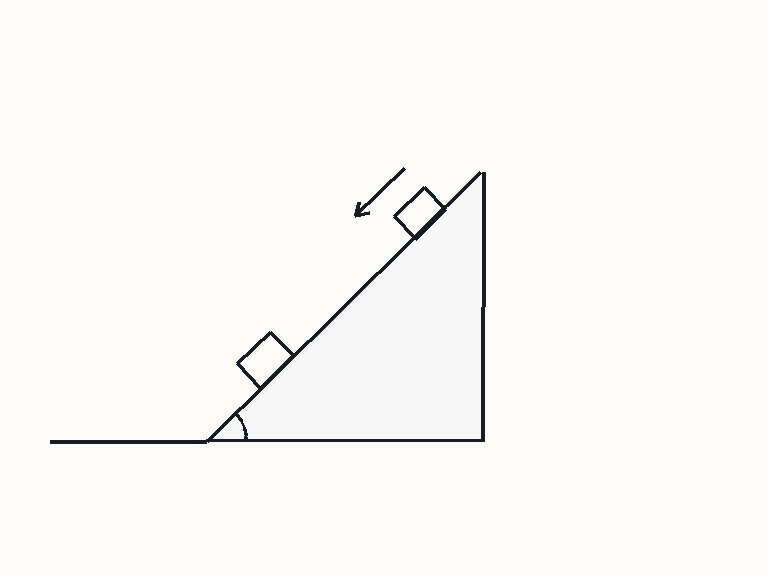block: (234, 329, 295, 390), (392, 185, 447, 240)
ramp: (204, 171, 485, 442)
